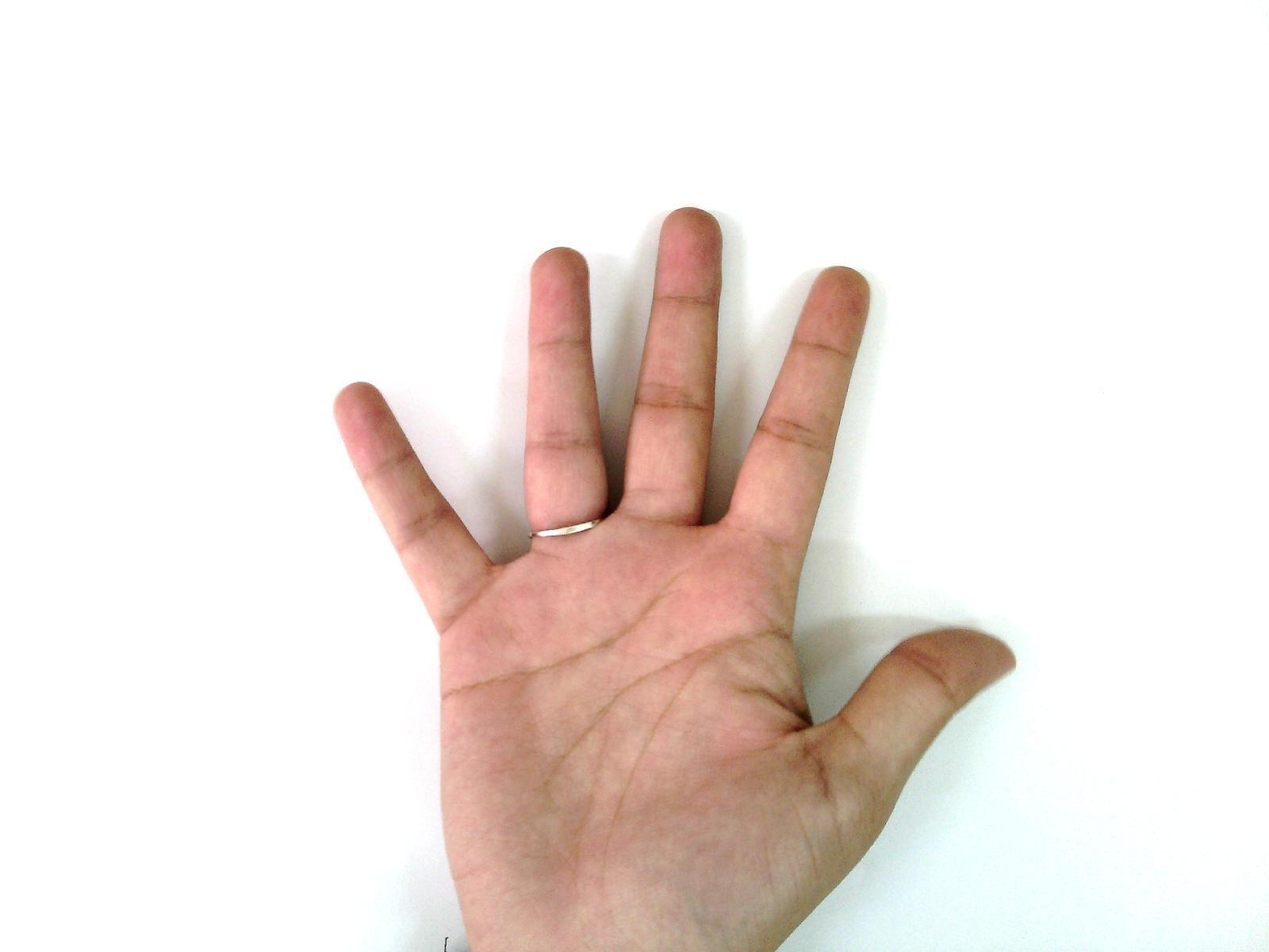open_palm: (330, 205, 1019, 951)
